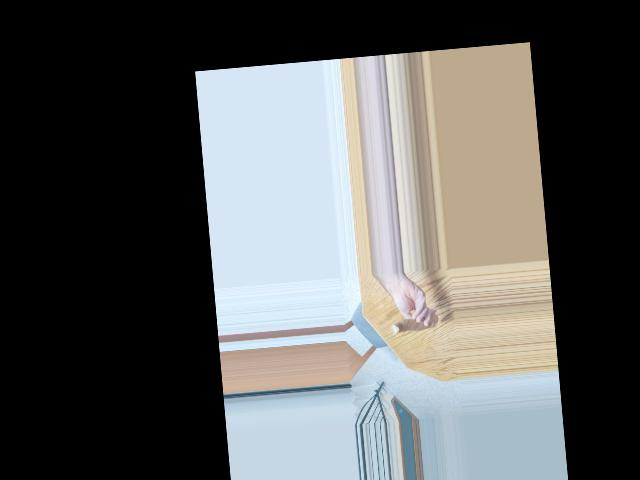sweet_potato: (389, 310, 438, 335)
